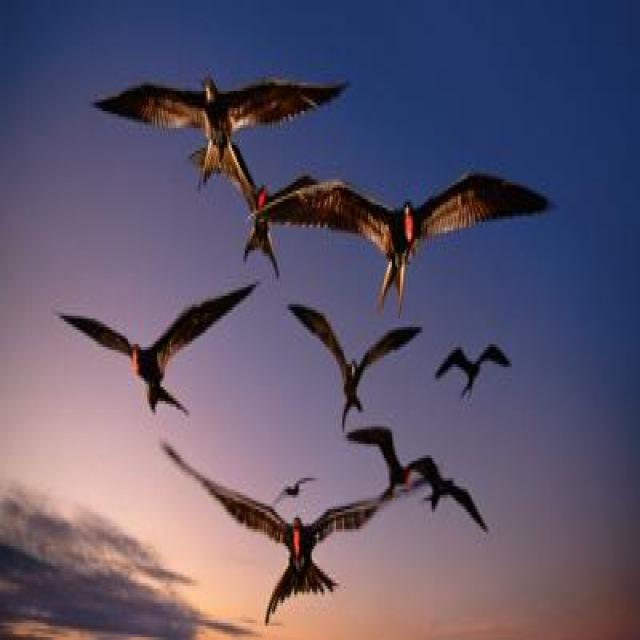birds: (154, 432, 414, 640), (253, 154, 556, 320), (94, 54, 356, 198), (50, 266, 269, 422), (341, 421, 494, 540), (290, 294, 424, 428), (437, 324, 514, 414), (264, 462, 321, 524)
